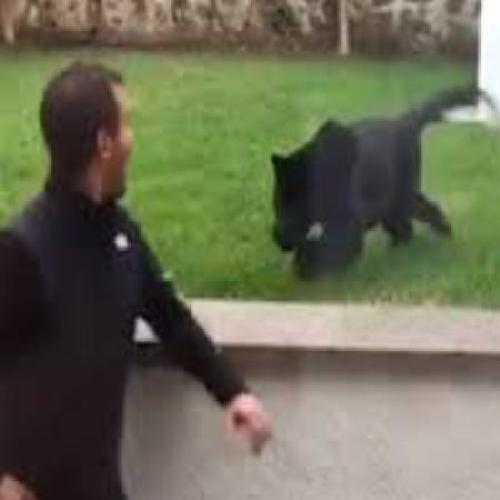panther-endangered: (268, 120, 452, 256)
